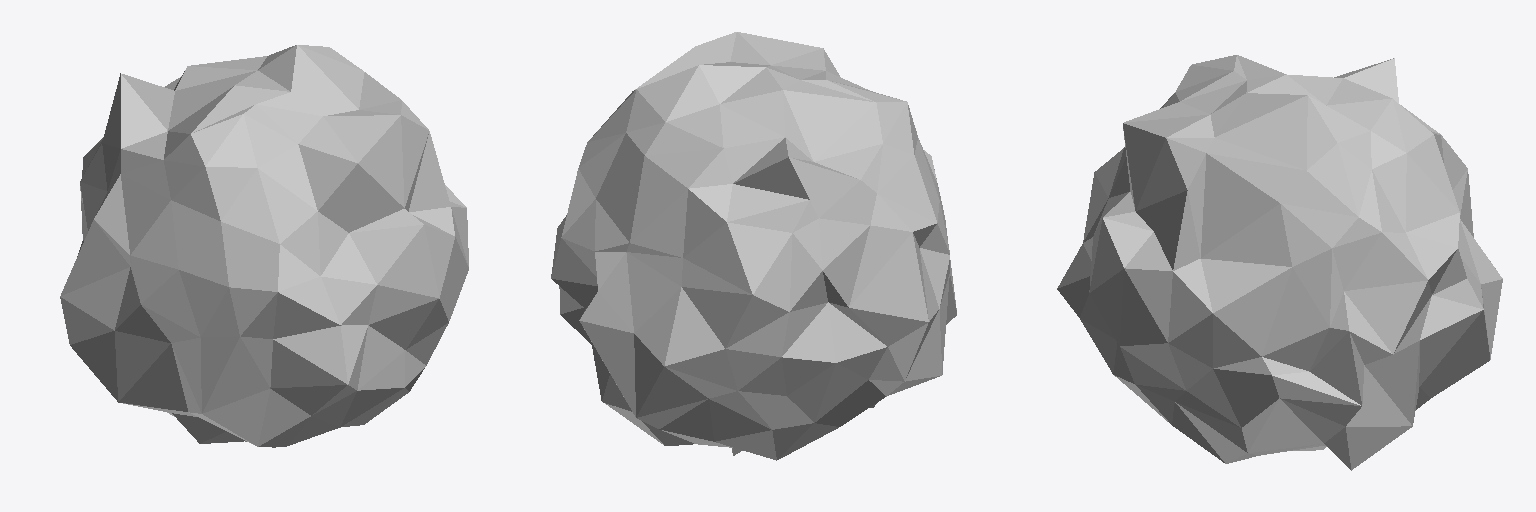
File: fire_000004.obj
3 views of the same model, side by side, from view 1: azimuth 30°, elevation 25°; view 2: azimuth 150°, elevation 25°; view 3: azimuth 270°, elevation 25° (orthographic).
Visible parts, largest first — view 1: Icosphere; view 2: Icosphere; view 3: Icosphere.
Boxes of the visible parts, <box> form: Icosphere: <box>60,45,468,447</box>; Icosphere: <box>551,32,956,460</box>; Icosphere: <box>1057,55,1502,470</box>.
Size of the model in its own units: 1.55 by 1.56 by 1.68.